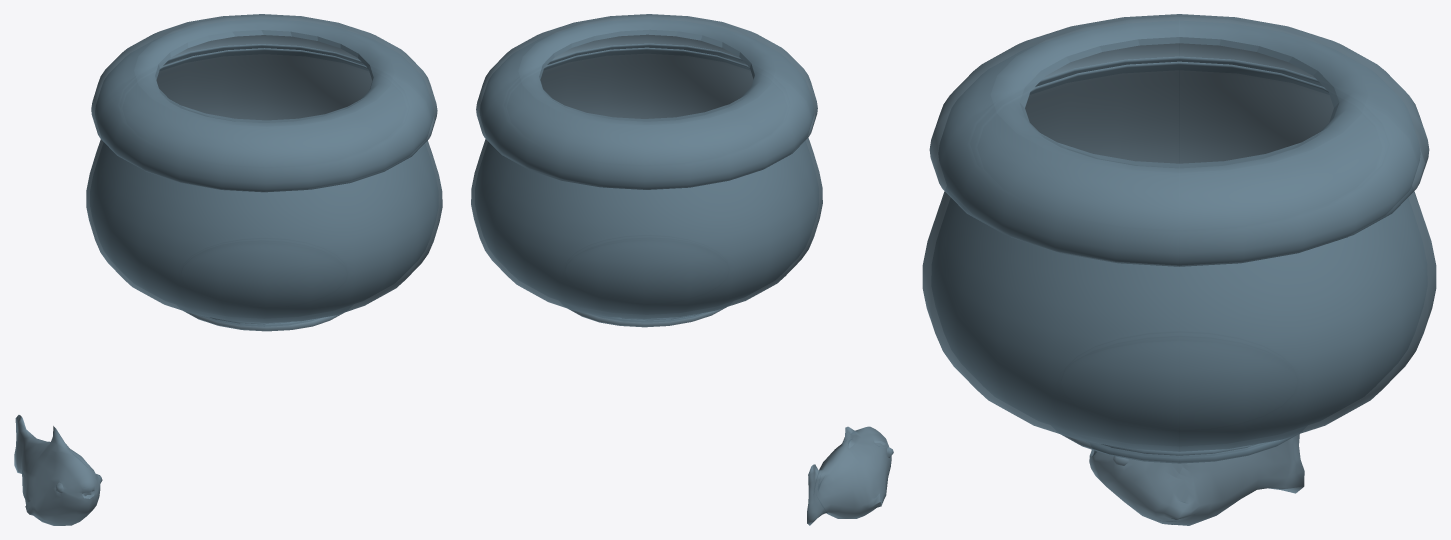
Rendered from Fishbowl.fbx.
3 renders of one model, left to right at view 1: azimuth 30°, elevation 25°; view 2: azimuth 150°, elevation 25°; view 3: azimuth 270°, elevation 25°, orthographic. The views are drawn at different scales.
Parts seen in each view (by area): view 1: FishbowlMesh, FishMesh; view 2: FishbowlMesh, FishMesh; view 3: FishbowlMesh, FishMesh.
Part boxes in pixels (x1,y1,x2,y2): FishbowlMesh: (86, 14, 442, 331); FishMesh: (14, 415, 102, 525); FishbowlMesh: (471, 14, 822, 327); FishMesh: (807, 426, 893, 525); FishbowlMesh: (922, 14, 1436, 463); FishMesh: (1089, 434, 1304, 525).
Bounding box in the file's own units: 35.7 × 35.04 × 28.53.
